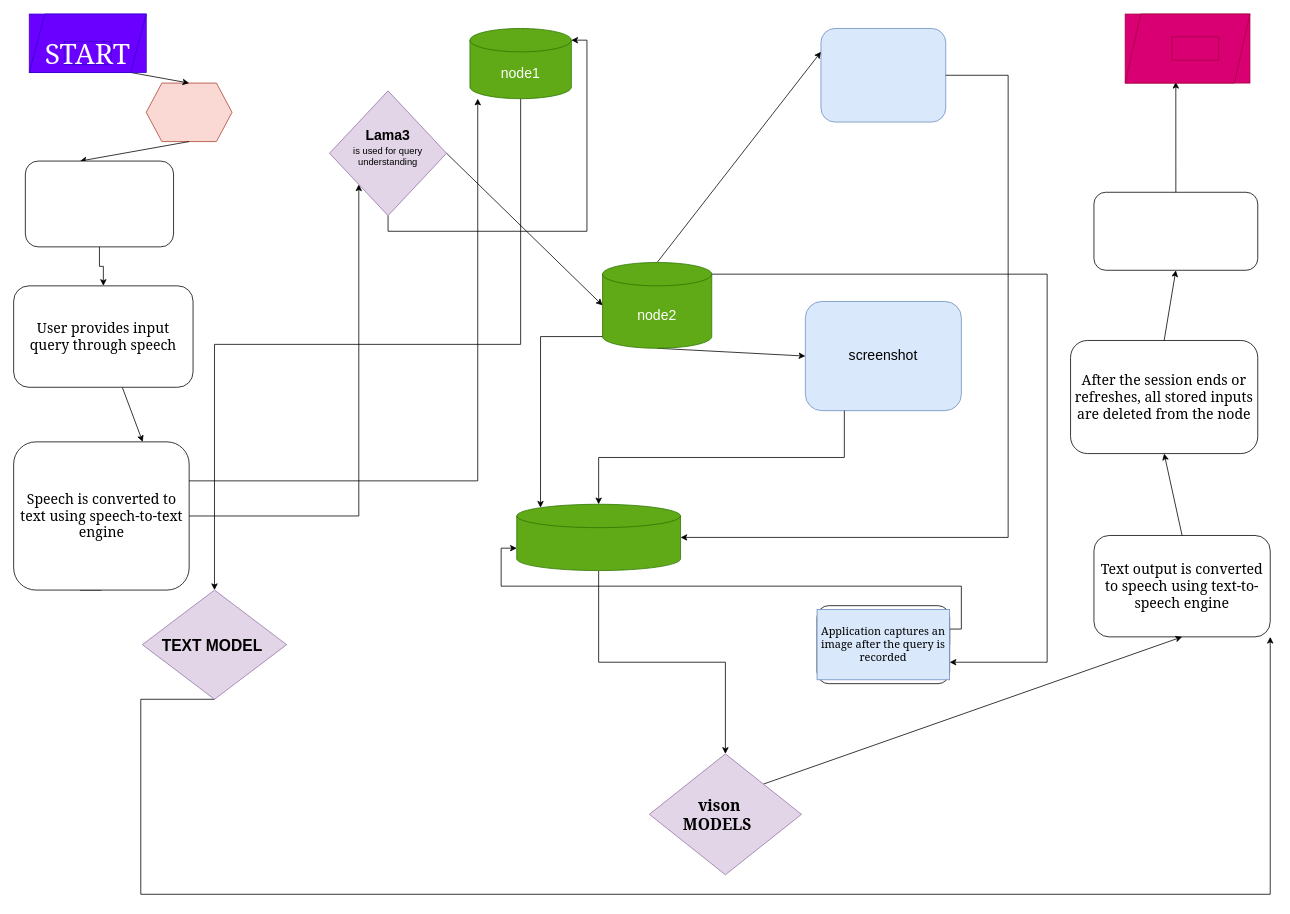
The diagram is 1290 pixels wide and 914 high, and some of its shapes have lost their labels. The centre of each missing label's shape, as x and y in pixels:
"application reads the text that is copied" goes at (x=883, y=75).
"Application resets and starts from the beginning" goes at (x=1175, y=230).
"END" goes at (x=1195, y=48).
"node3" goes at (x=598, y=537).
"Starts a continues video stream & STARTS contiues mic usage" goes at (x=99, y=203).
"WAKE WORD (OPTIONAL)" goes at (x=188, y=112).
